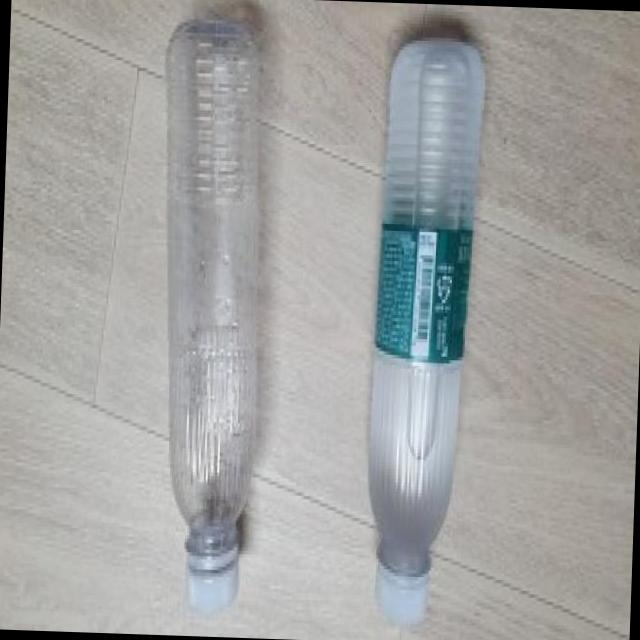plastic_bottle: (357, 37, 488, 628), (144, 21, 274, 614)
